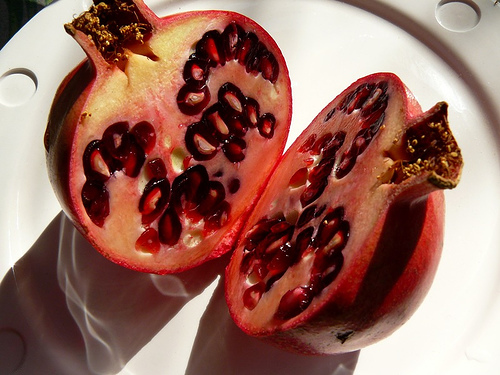pomogranate: (43, 0, 293, 276), (223, 72, 464, 357)
